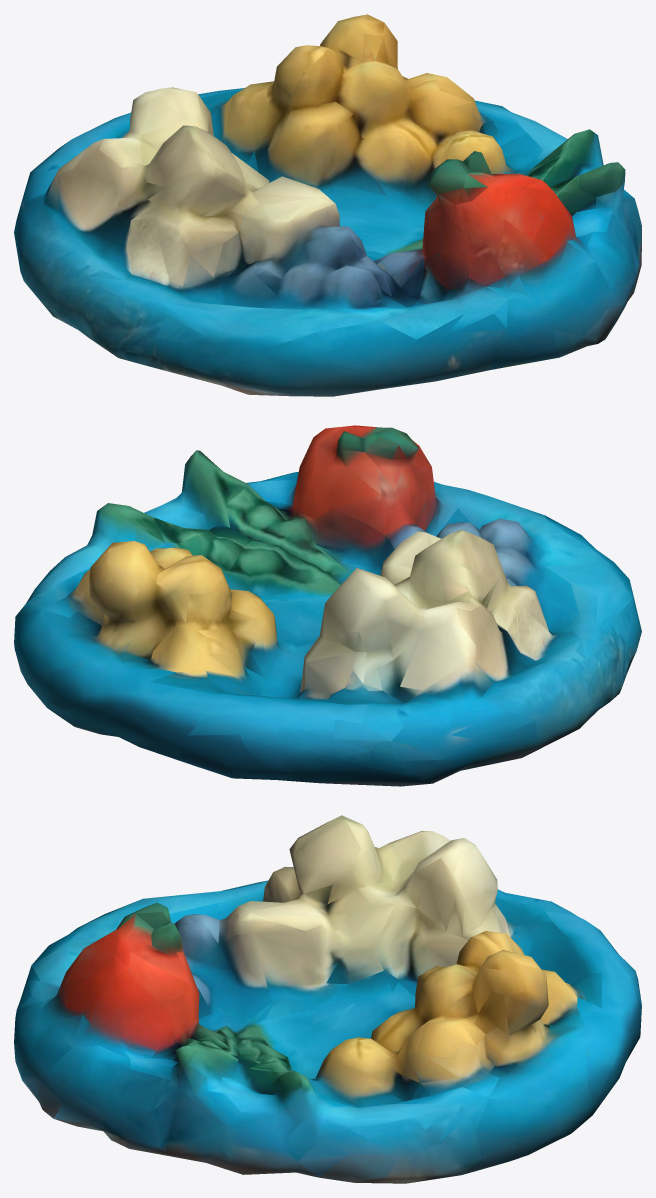
The model's file is sk-plate.glb.
3 renders of one model, top to bottom at view 1: azimuth 30°, elevation 25°; view 2: azimuth 150°, elevation 25°; view 3: azimuth 270°, elevation 25°, orthographic.
Visible parts, largest first — view 1: Mesh; view 2: Mesh; view 3: Mesh.
Boxes of the visible parts, left/top/right/bottom form: Mesh: left=14, top=14, right=641, bottom=396; Mesh: left=14, top=425, right=641, bottom=786; Mesh: left=14, top=815, right=641, bottom=1183.
Size of the model in its own units: 0.941 by 0.3145 by 0.9518.
1 material, 1 textured.
